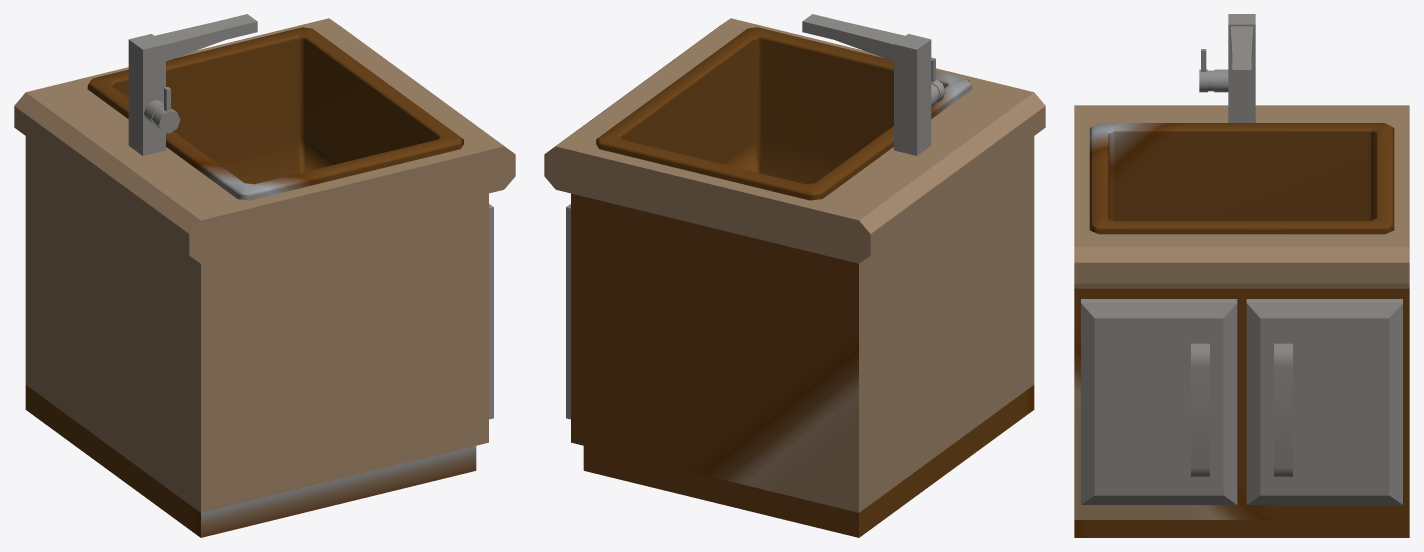
The model's file is SM_Bench_Sink.fbx.
3 views of the same model, side by side, from view 1: azimuth 30°, elevation 25°; view 2: azimuth 150°, elevation 25°; view 3: azimuth 270°, elevation 25° (orthographic). The views are drawn at different scales.
Visible parts, largest first — view 1: SM_Bench_Sink; view 2: SM_Bench_Sink; view 3: SM_Bench_Sink.
Part boxes in pixels (x1,y1,x2,y2): SM_Bench_Sink: (14, 14, 515, 537); SM_Bench_Sink: (544, 14, 1045, 537); SM_Bench_Sink: (1074, 14, 1409, 537).
Bounding box in the file's own units: 1.11 × 1.33 × 1.
